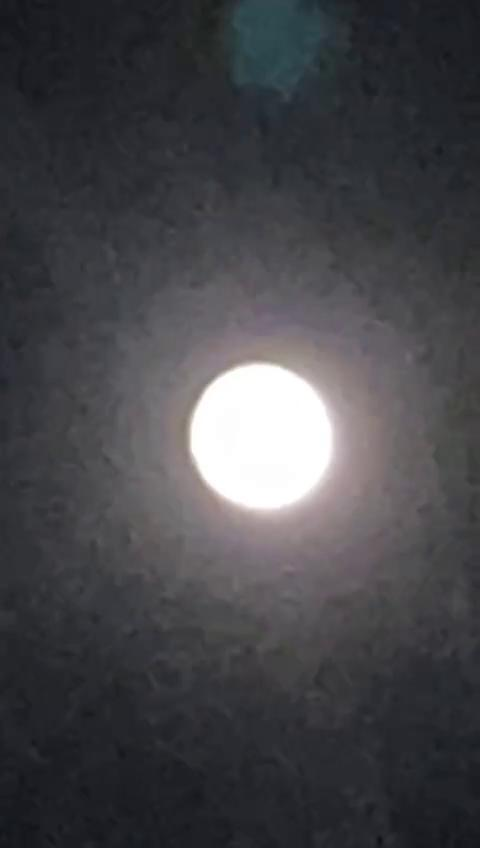moon: (179, 358, 357, 549)
